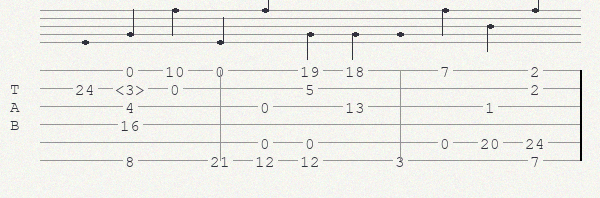0: (125, 63, 139, 77), (170, 81, 184, 95), (215, 63, 229, 77), (260, 135, 274, 149), (260, 99, 274, 113), (305, 135, 319, 149), (440, 135, 454, 149)
1: (485, 99, 499, 113)
10: (165, 63, 189, 77)
12: (255, 153, 279, 167), (300, 153, 324, 167)
13: (345, 99, 369, 113)
16: (120, 117, 144, 131)
18: (345, 63, 369, 77)
19: (300, 63, 324, 77)
2: (530, 63, 544, 77), (530, 81, 544, 95)
20: (480, 135, 504, 149)
21: (210, 153, 234, 167)
24: (75, 81, 99, 95), (525, 135, 549, 149)
3: (395, 153, 409, 167)
4: (125, 99, 139, 113)
5: (305, 81, 319, 95)
7: (440, 63, 454, 77), (530, 153, 544, 167)
8: (125, 153, 139, 167)
harmonic: (115, 81, 149, 96)
